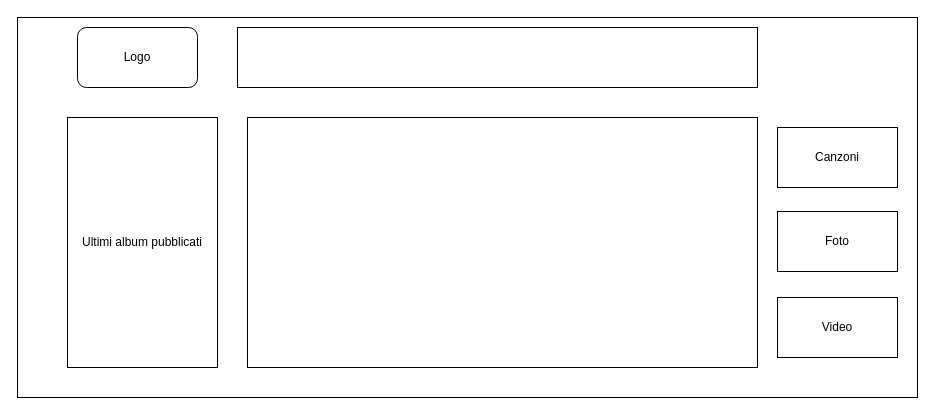
Image size: 935x415. Some labels were removed from this diagram. Here are the shapes that lost their labels. From the top down, the centre of each, then its label:
At (x=497, y=57): "Menu Voce 1 Voce 2 Voce 3".
At (x=502, y=242): "News".
